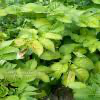Potato leaf: (71, 56, 96, 71), (50, 62, 68, 80), (37, 37, 56, 52), (54, 13, 74, 24), (33, 18, 54, 28), (41, 32, 64, 41), (50, 23, 65, 33)
Potato leaf early blight: (27, 40, 45, 56), (65, 70, 76, 87), (13, 38, 29, 45)
